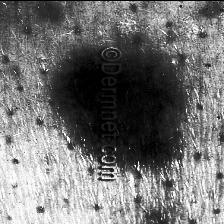Potentially Malignant Skin Tumors: (63, 56, 176, 160)
